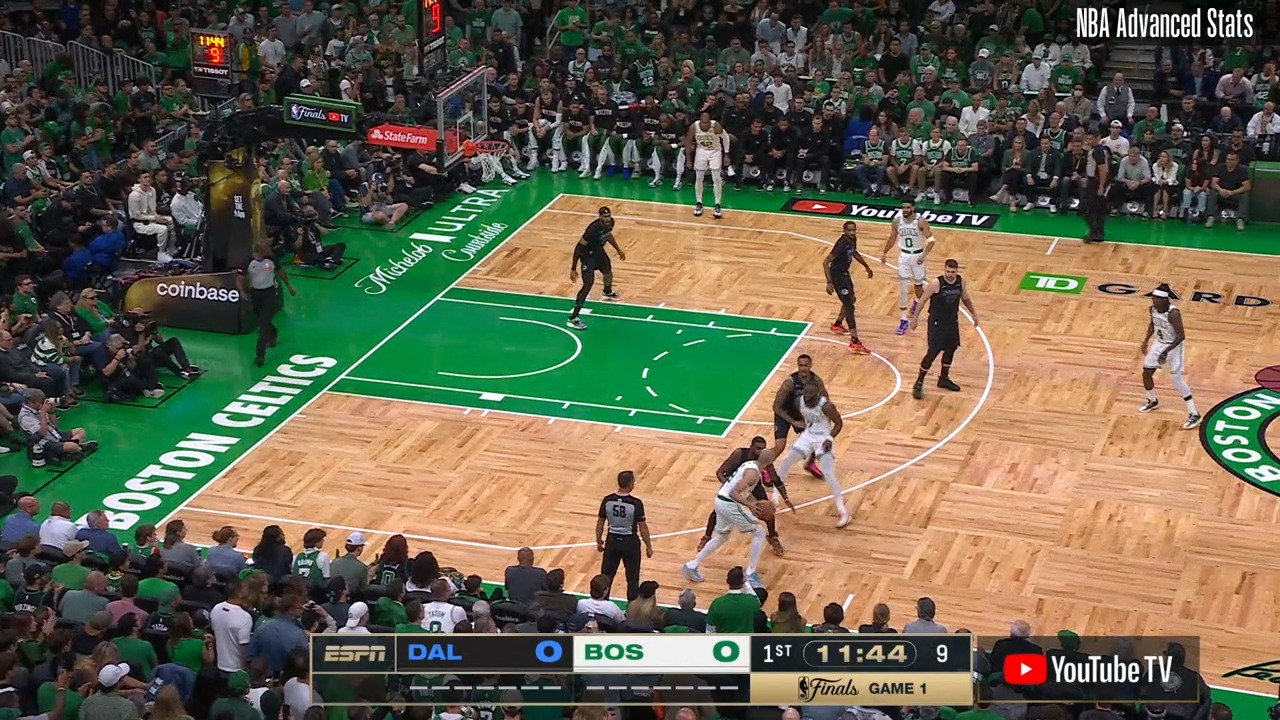basketball: (753, 498, 778, 523)
